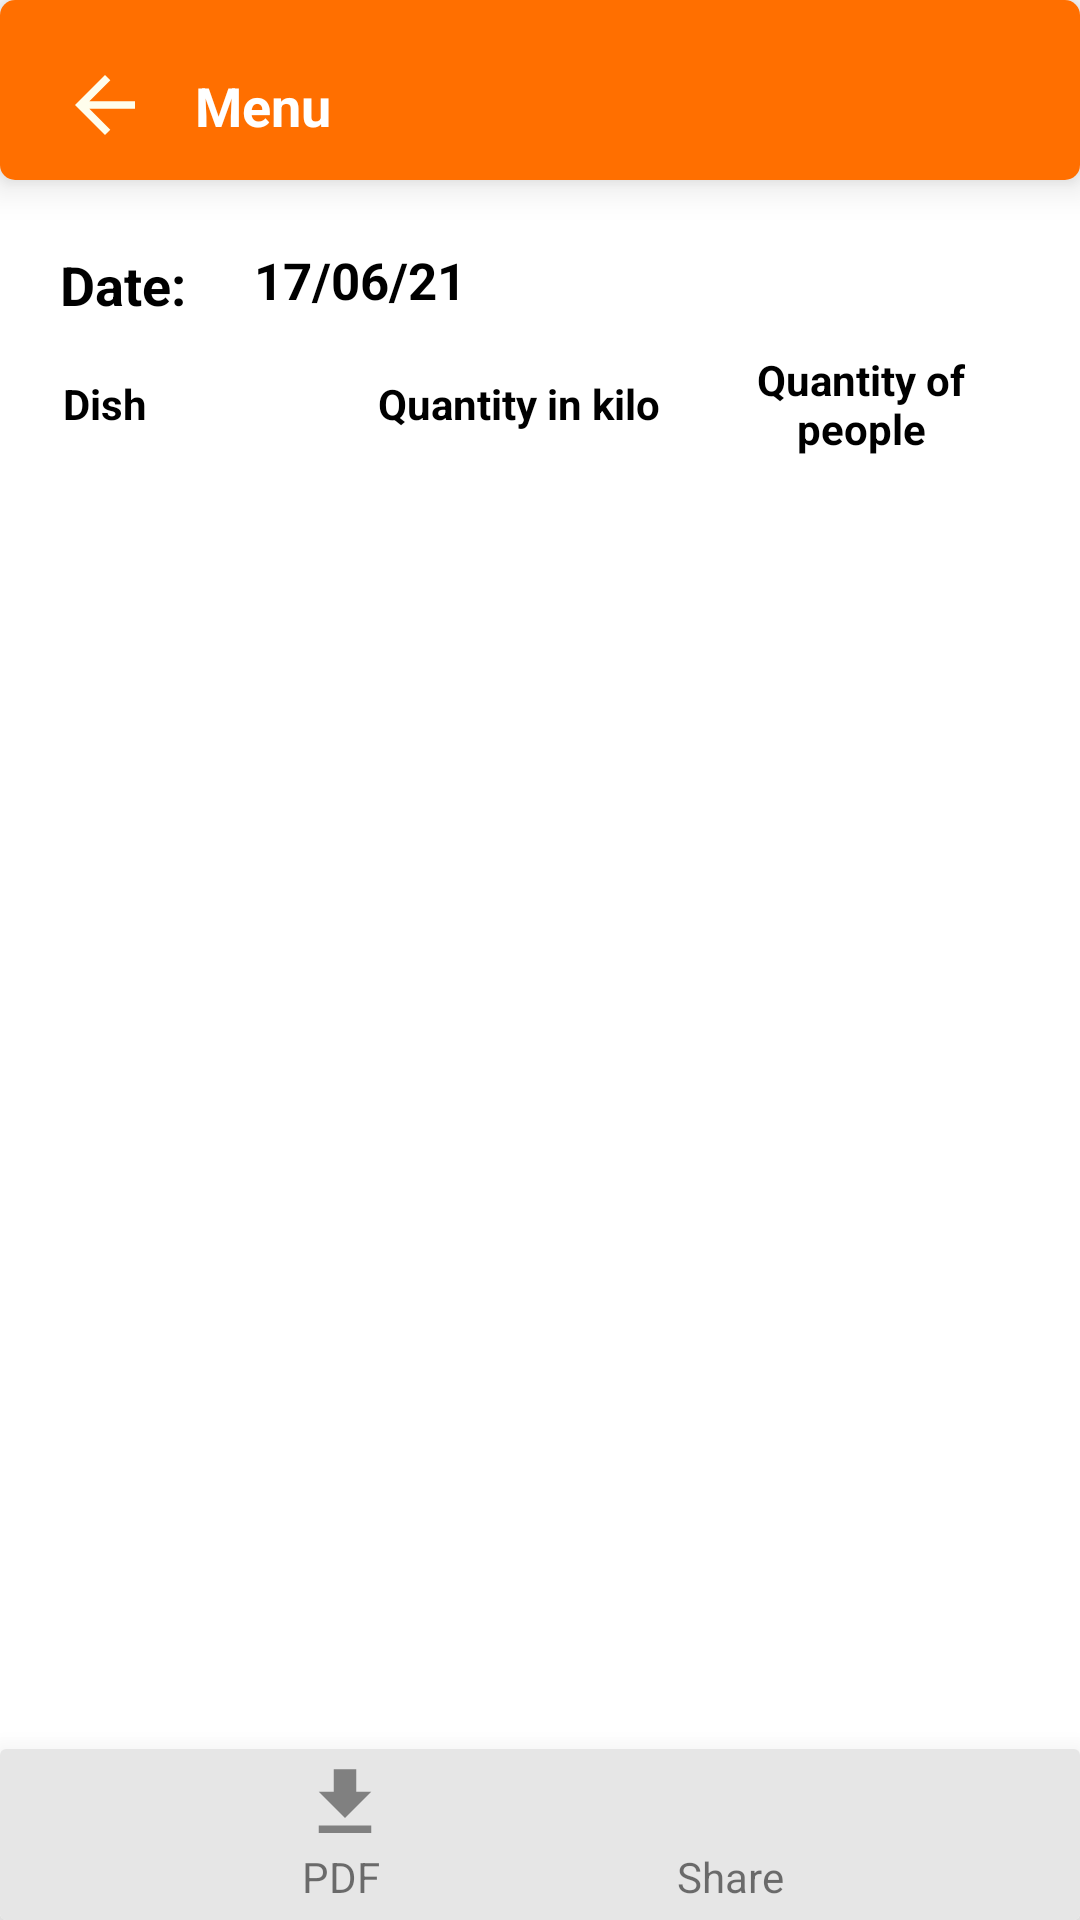

Icons on this 1080 x 1920 Android screen, each with the point to tap as [x,y]:
arrow back: [105,105]
file download: [345,1801]
